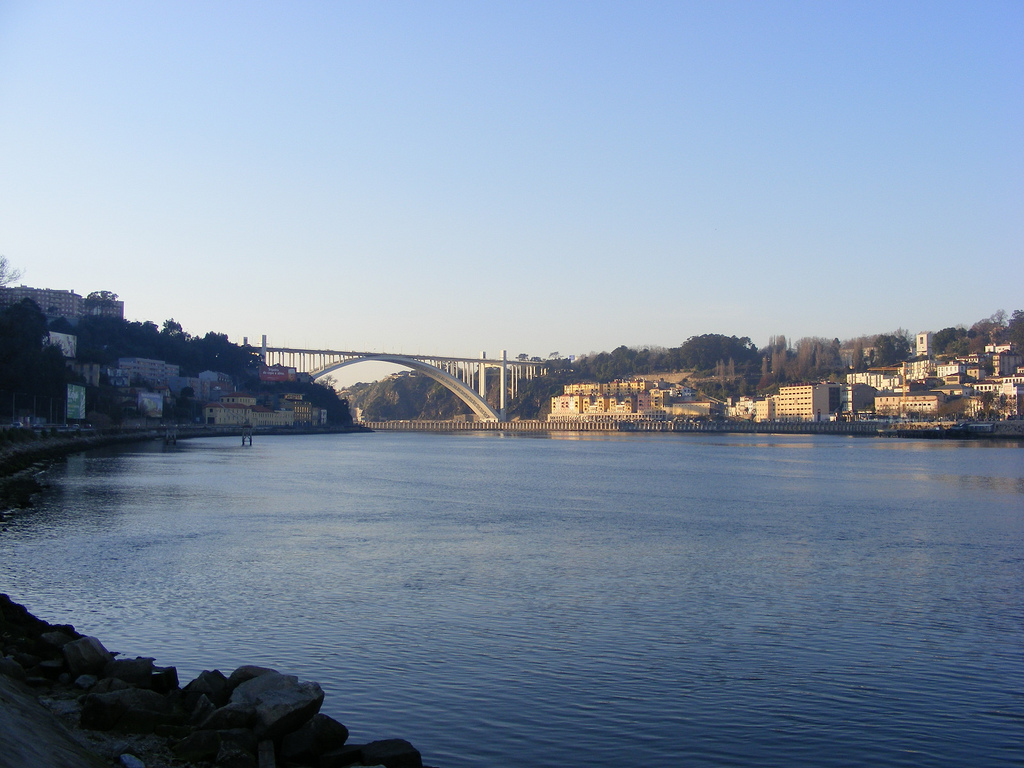arrabida: (225, 335, 549, 424)
